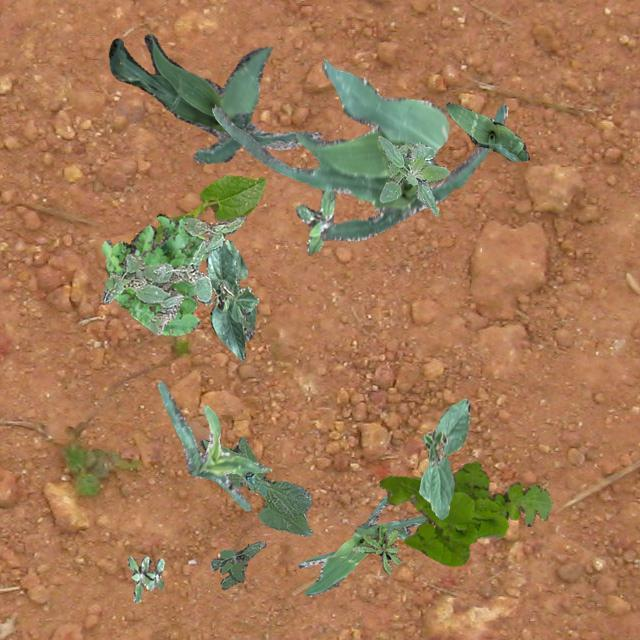crop: (210, 58, 508, 240), (107, 34, 320, 162), (156, 380, 266, 510), (298, 492, 427, 596), (198, 436, 312, 534), (153, 175, 264, 242), (205, 240, 258, 360), (418, 398, 468, 518), (376, 134, 448, 214), (444, 102, 528, 160), (223, 238, 256, 340)
weed: (378, 460, 550, 566), (100, 214, 244, 334), (101, 212, 209, 336), (210, 540, 264, 588), (294, 189, 334, 253), (352, 522, 401, 572), (126, 556, 164, 602)
